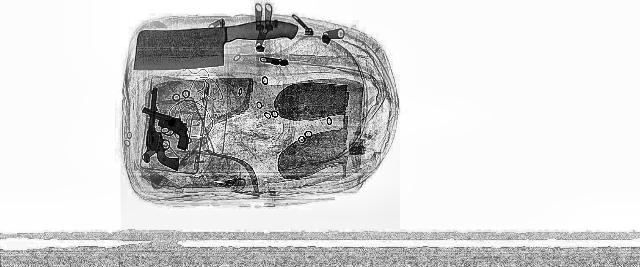Gun: (106, 108, 224, 150), (141, 88, 181, 172)
Knife: (126, 20, 302, 70)
